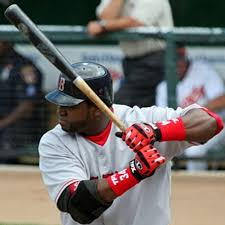baseball bat: (3, 4, 127, 132)
